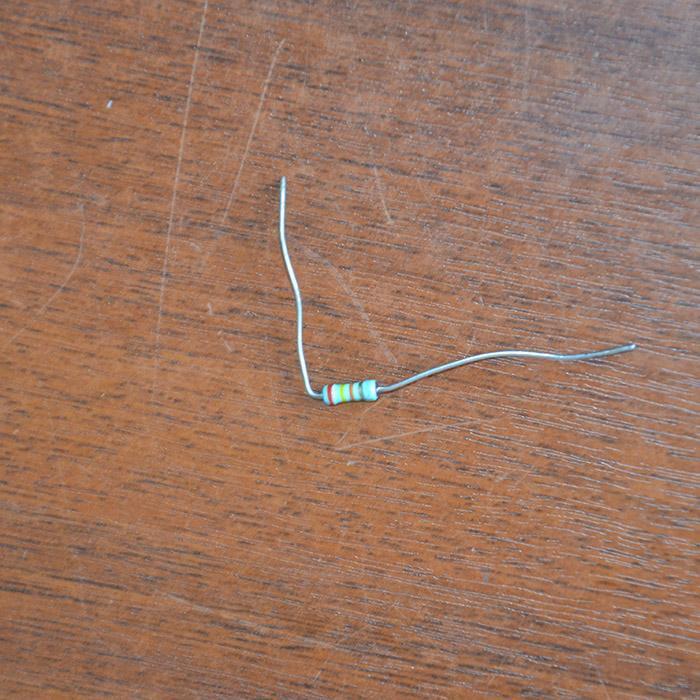resistor: (322, 379, 376, 405)
